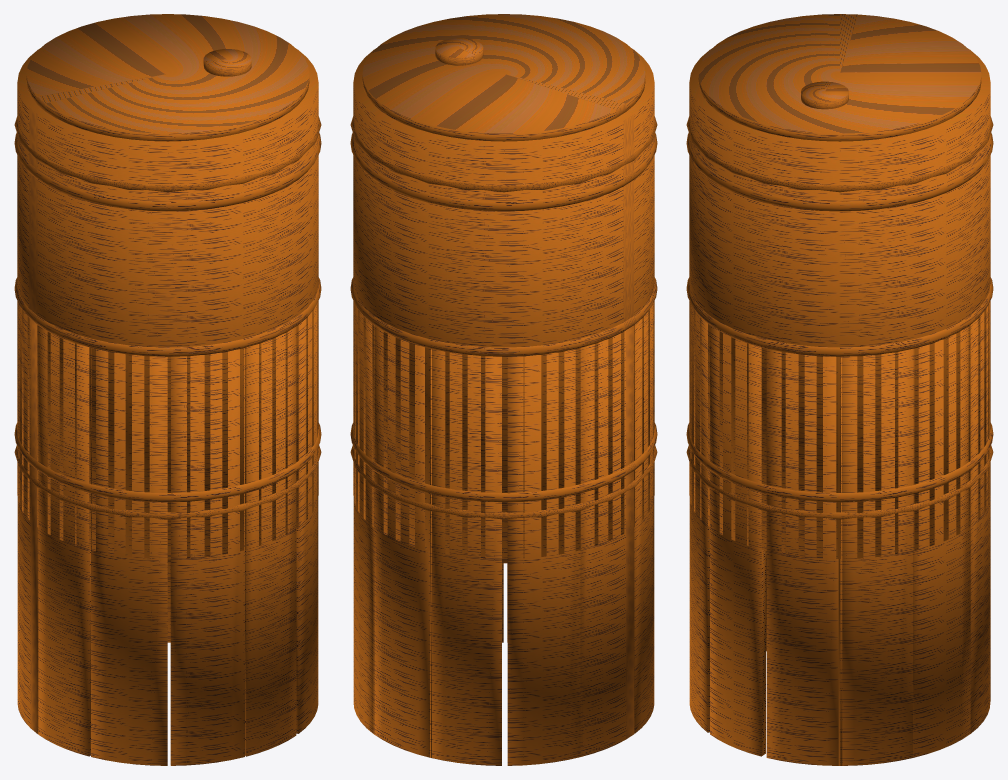
Rendered from explosive_barrel.glb.
3 renders of one model, left to right at view 1: azimuth 30°, elevation 25°; view 2: azimuth 150°, elevation 25°; view 3: azimuth 270°, elevation 25°, orthographic.
Parts seen in each view (by area): view 1: barrel_intact_mesh, barrel_shard_04, barrel_shard_03, barrel_shard_05, barrel_shard_02, barrel_shard_01, barrel_shard_06, barrel_ring_2, barrel_ring_0, barrel_cap; view 2: barrel_intact_mesh, barrel_shard_07, barrel_shard_08, barrel_shard_06, barrel_shard_09, barrel_shard_10, barrel_shard_05, barrel_ring_2, barrel_ring_0, barrel_cap; view 3: barrel_intact_mesh, barrel_shard_00, barrel_shard_11, barrel_shard_10, barrel_shard_01, barrel_shard_09, barrel_shard_02, barrel_ring_2, barrel_ring_0, barrel_cap.
Boxes of the visible parts, x1,y1,x2,y2 form: barrel_intact_mesh: (14, 14, 321, 563); barrel_shard_04: (91, 348, 167, 765); barrel_shard_03: (170, 348, 244, 765); barrel_shard_05: (38, 325, 90, 756); barrel_shard_02: (245, 326, 296, 756); barrel_shard_01: (296, 301, 318, 733); barrel_shard_06: (17, 301, 38, 733); barrel_ring_2: (14, 116, 321, 192); barrel_ring_0: (14, 445, 321, 519); barrel_cap: (203, 49, 251, 76); barrel_intact_mesh: (350, 14, 657, 563); barrel_shard_07: (507, 347, 582, 765); barrel_shard_08: (430, 348, 501, 765); barrel_shard_06: (580, 325, 634, 756); barrel_shard_09: (373, 325, 431, 757); barrel_shard_10: (353, 301, 374, 734); barrel_shard_05: (634, 301, 654, 733); barrel_ring_2: (350, 116, 657, 192); barrel_ring_0: (350, 445, 657, 519); barrel_cap: (435, 38, 483, 65); barrel_intact_mesh: (686, 14, 993, 558); barrel_shard_00: (766, 349, 842, 765); barrel_shard_11: (838, 349, 912, 765); barrel_shard_10: (913, 325, 970, 757); barrel_shard_01: (710, 325, 765, 756); barrel_shard_09: (970, 301, 990, 733); barrel_shard_02: (689, 301, 709, 732); barrel_ring_2: (686, 116, 993, 192); barrel_ring_0: (686, 445, 993, 519); barrel_cap: (801, 81, 848, 109).
Size of the model in its own units: 0.612 by 1.4 by 0.612.
1 material, 1 textured.
